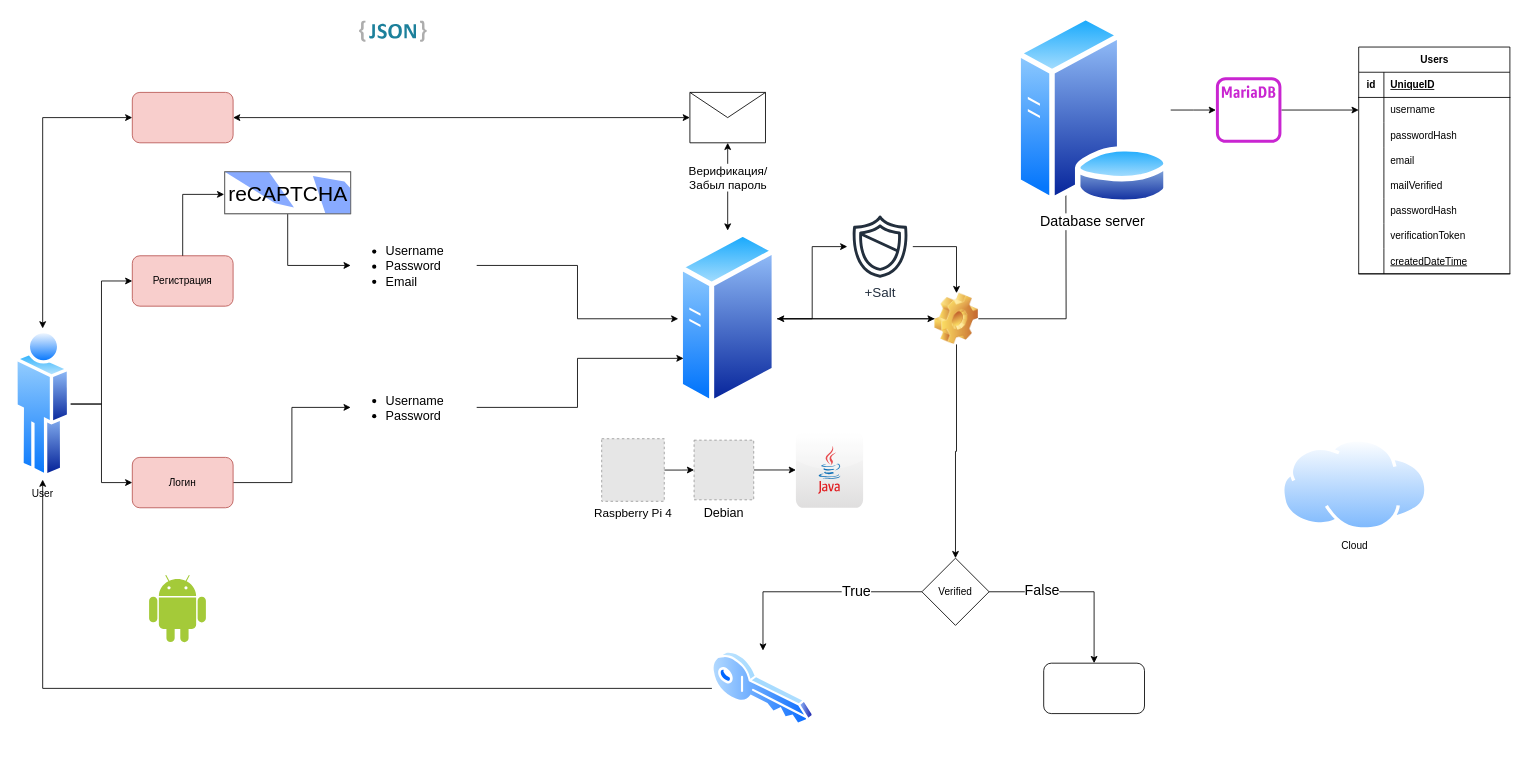
Image size: 1525x768. Some labels were removed from this diagram. Grey dashed boxes stand in for pictures. Here are the shapes that lost their labels. From the top down, the centre of each, then its label:
At pixel 182 117: "Подтверждение аккаун та/ Забыл пароль".
At pixel 727 318: "Main server".
At pixel 956 318: "BCrypt".
At pixel 762 688: "JWT".
At pixel 1093 688: "Пароль/Логин неверный".
